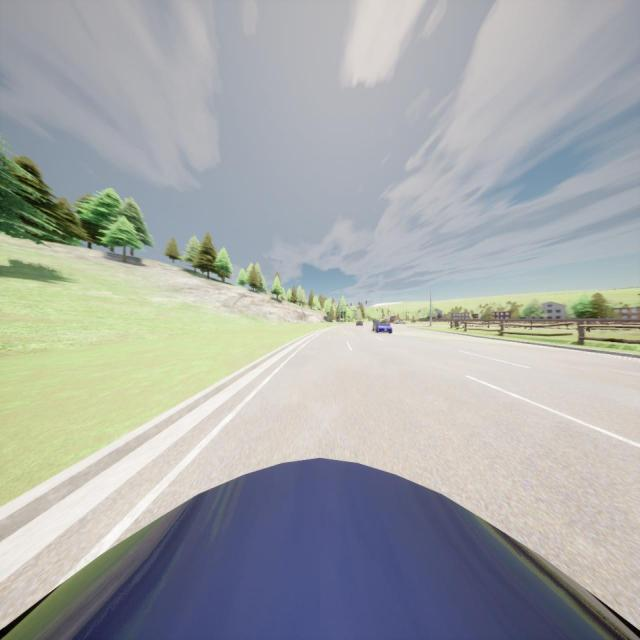Vehicle: (3, 457, 640, 640), (372, 319, 393, 334), (356, 321, 363, 326)
traffic_light: (358, 301, 360, 305), (365, 301, 367, 304), (350, 303, 352, 306)
